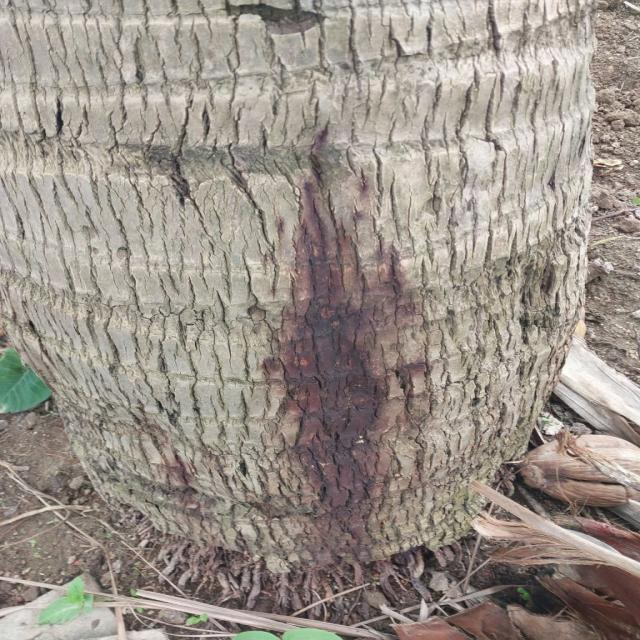stembleeding: (170, 142, 494, 586)
